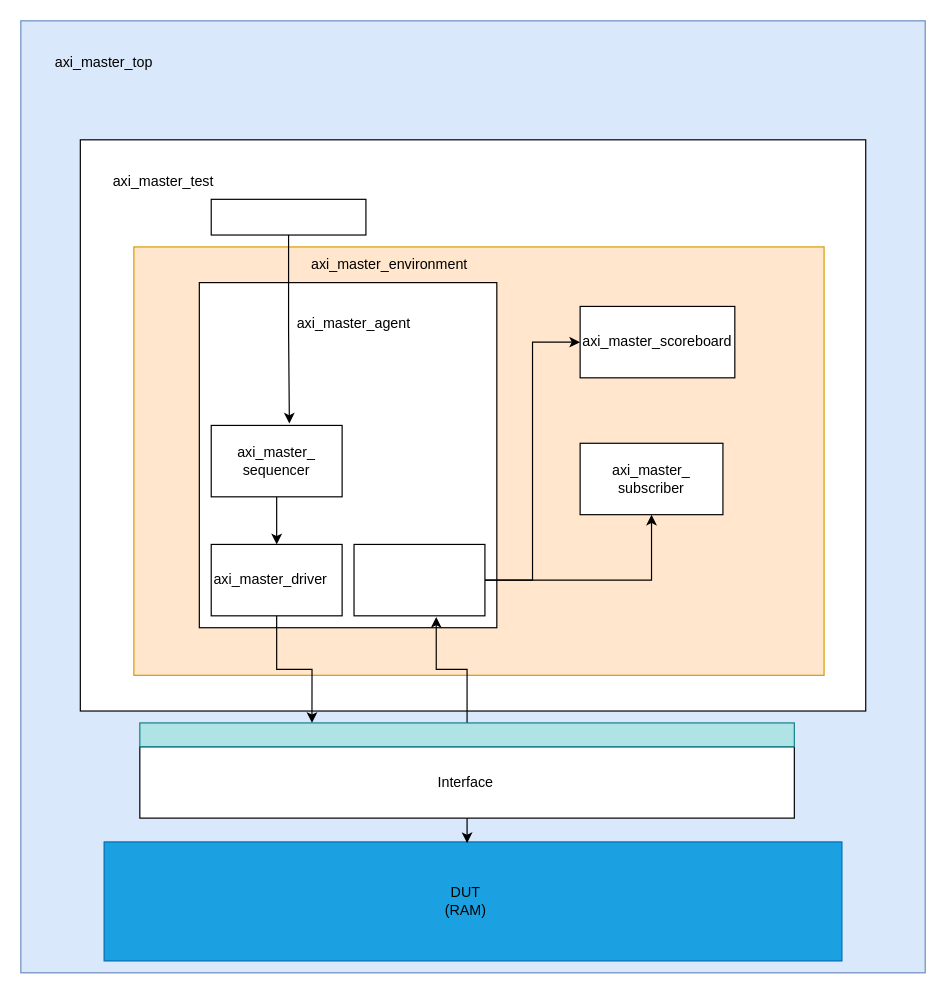
Image size: 946x994. Some labels were removed from this diagram. The centre of each missing label's shape, as x and y in pixels:
"axi_master_monitor" goes at (419,579).
"axi_master_sequence" goes at (288,216).
"Virtual Interface" goes at (466,734).
